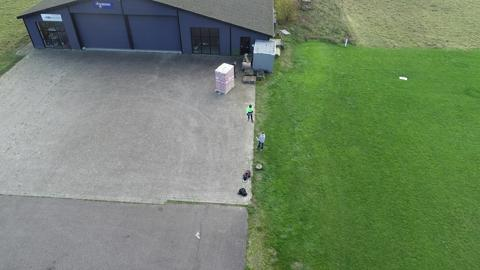RockwoolPallet: (216, 62, 236, 95)
